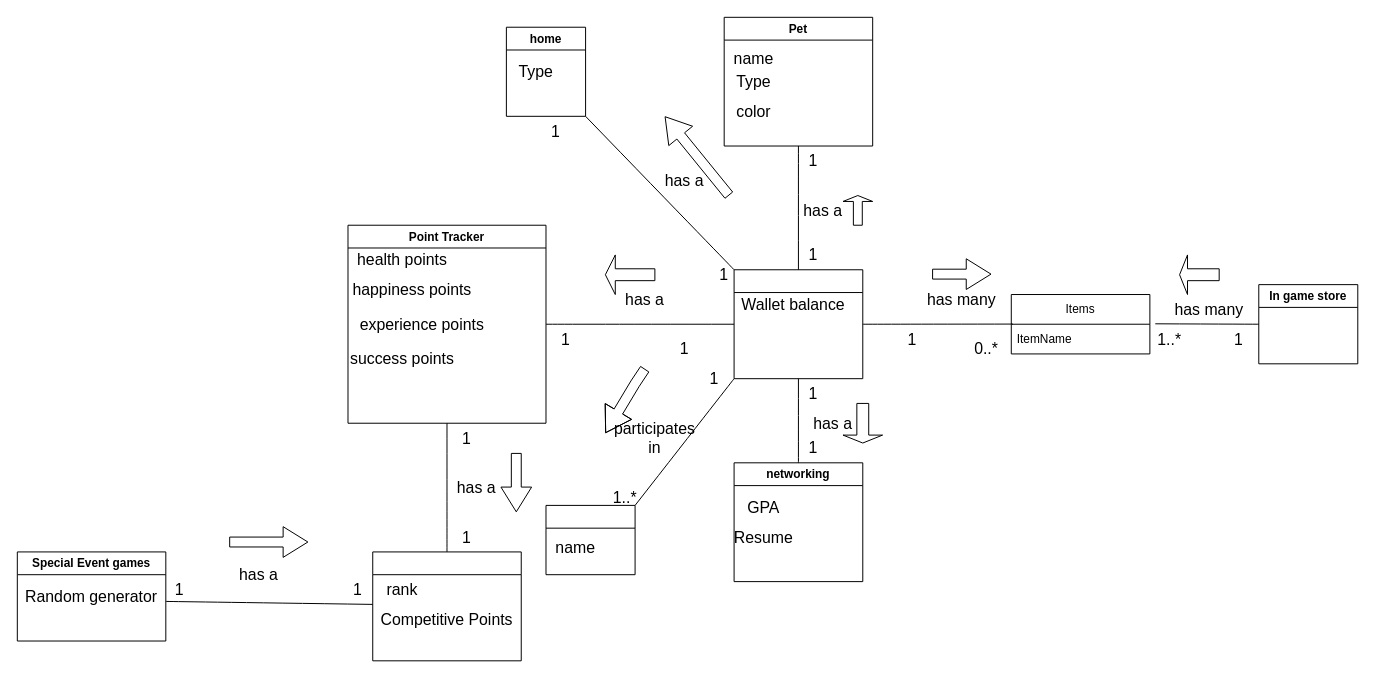
The diagram is 1375 pixels wide and 678 high, and some of its shapes have lost their labels. Each missing label, with the box of its shape:
Activity: (545, 504, 635, 575)
Hokie: (733, 269, 863, 379)
ranking: (372, 551, 521, 661)
